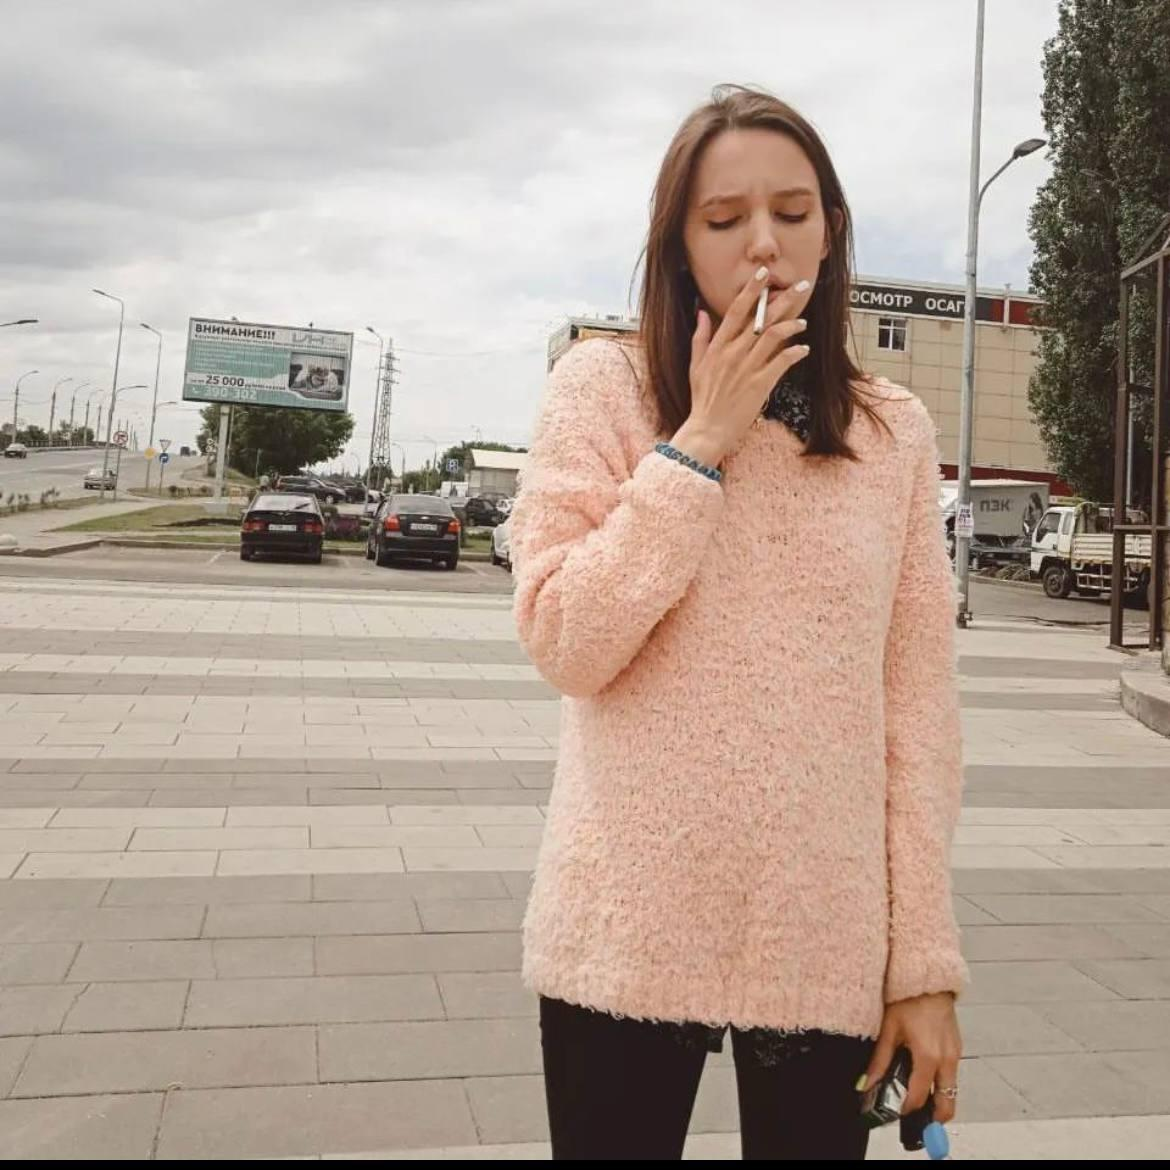cigarette: (752, 285, 769, 336)
